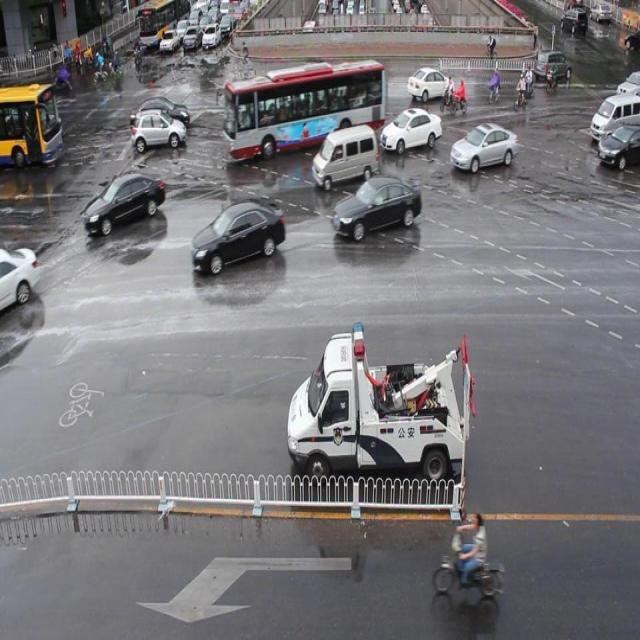BigCar: (210, 59, 386, 162), (0, 68, 62, 176)
car: (291, 328, 466, 496), (192, 194, 286, 290), (331, 174, 420, 238), (85, 175, 161, 242), (450, 120, 513, 184), (305, 123, 377, 177), (381, 106, 443, 150), (128, 112, 186, 150), (589, 89, 639, 127), (599, 128, 640, 172), (408, 64, 454, 102), (532, 48, 572, 80), (563, 6, 587, 37), (161, 27, 179, 55), (202, 22, 221, 48), (184, 23, 200, 50)
